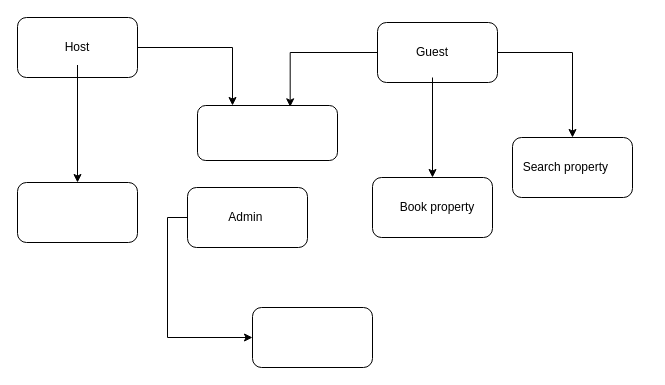
This 665x385 diagram has some shape labels left out. The centre of each missing label's shape, as x and y in pixels:
List property: [77,212]
Manage user: [312,337]
User Resgistration: [267,132]
